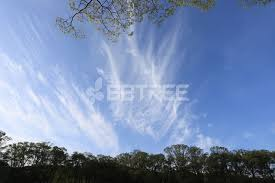forest: (3, 142, 275, 181)
sky: (1, 2, 271, 146)
tree: (67, 1, 202, 37), (3, 142, 65, 181), (169, 143, 231, 182)
